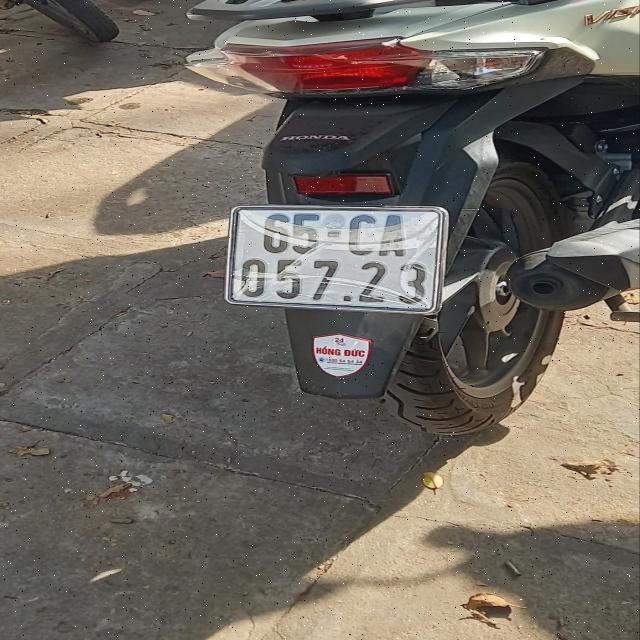0: (240, 258, 265, 298)
2: (358, 261, 387, 303)
3: (397, 262, 428, 306)
5: (276, 259, 301, 300), (293, 212, 317, 253)
6: (264, 214, 290, 253)
7: (312, 260, 338, 302)
A: (379, 215, 407, 258)
C: (349, 215, 373, 257)
